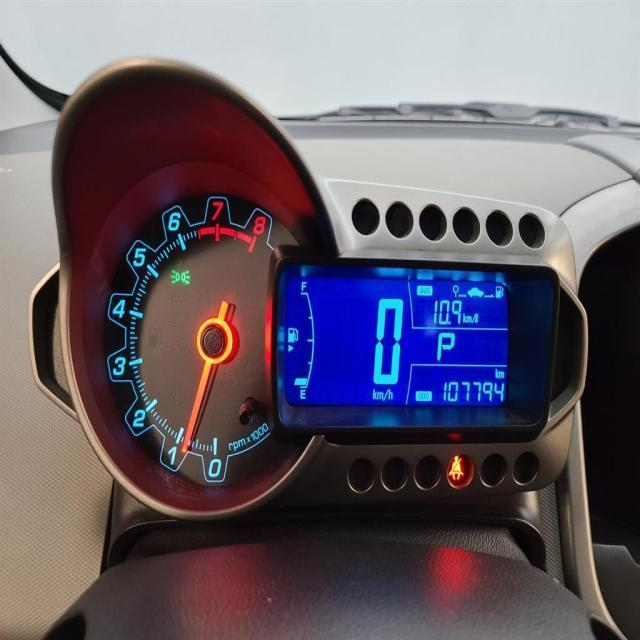SideLamp: (168, 268, 190, 284)
